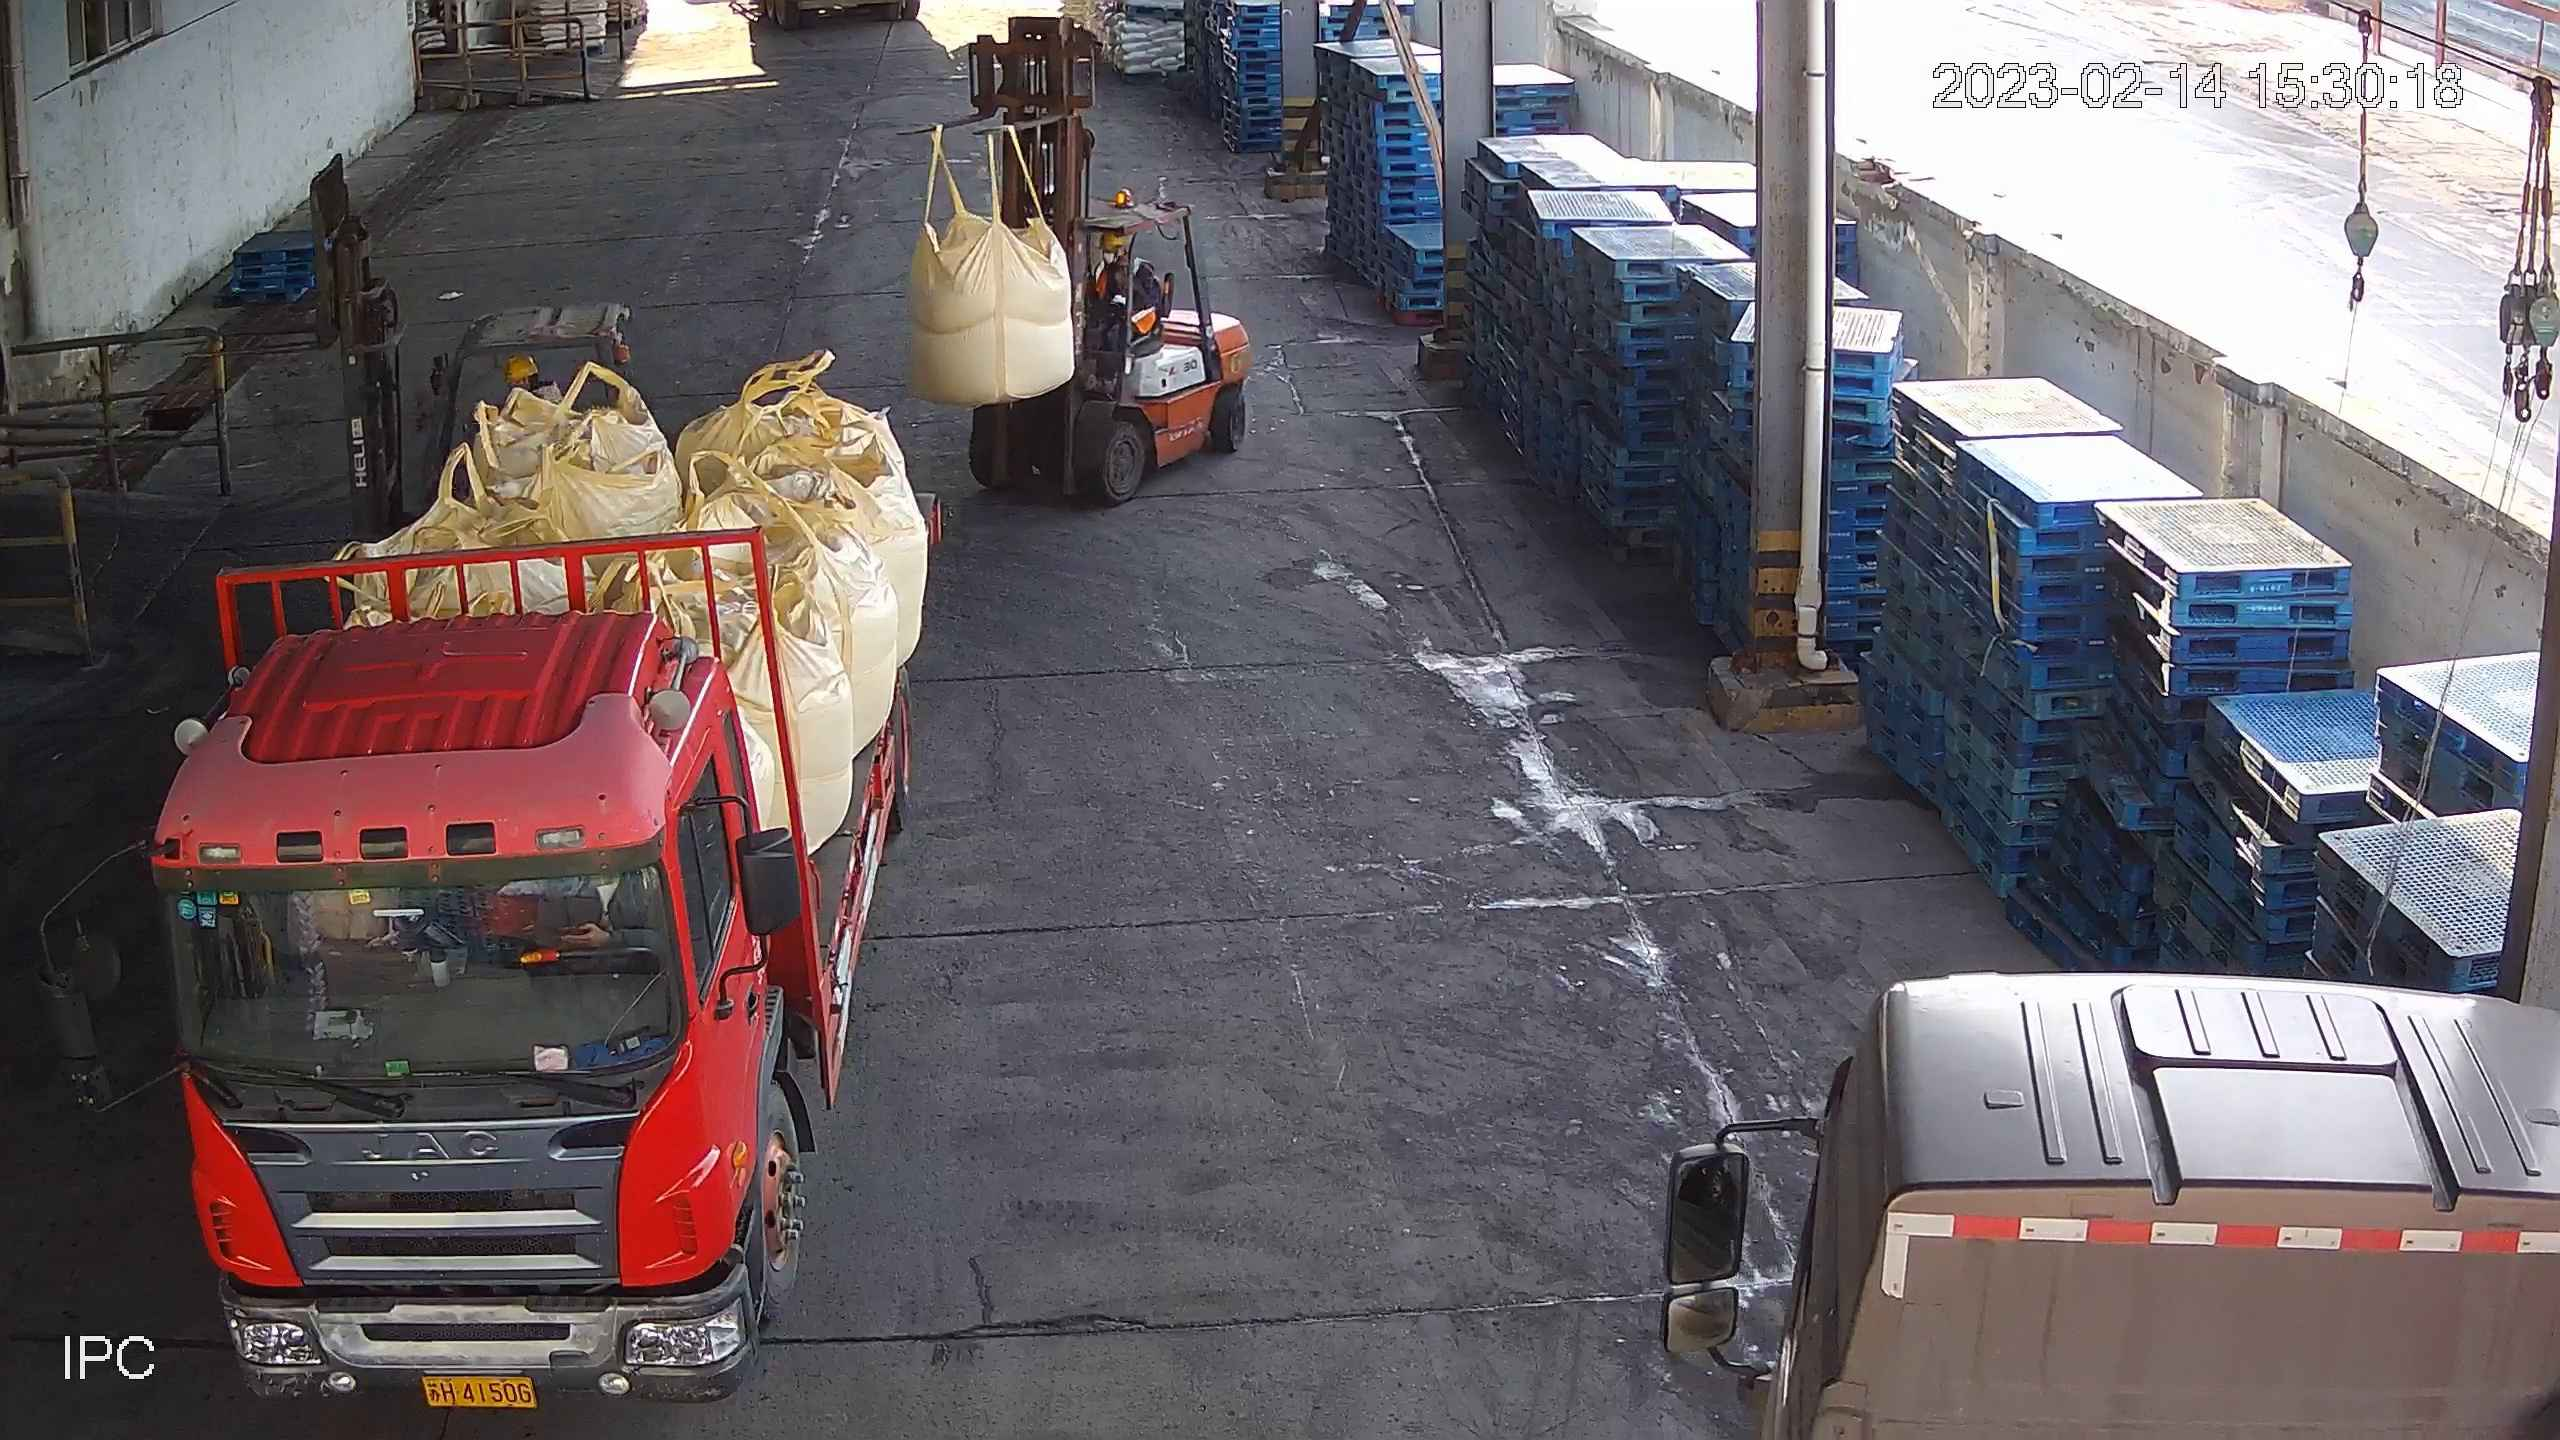helmet: (506, 355, 540, 380), (1099, 230, 1122, 250)
truck: (32, 489, 941, 1408), (1658, 974, 2560, 1440)
